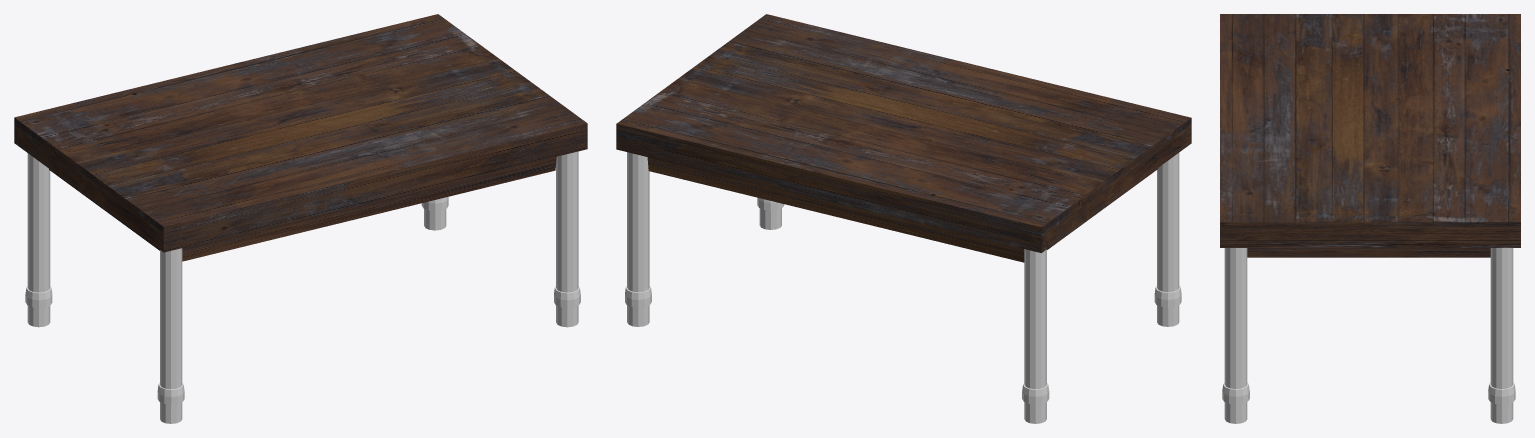
Rendered from Table.fbx.
3 renders of one model, left to right at view 1: azimuth 30°, elevation 25°; view 2: azimuth 150°, elevation 25°; view 3: azimuth 270°, elevation 25°, orthographic.
Visible parts, largest first — view 1: TableTop, TableLeg.003, TableLeg.002, TableLeg.001, TableLeg; view 2: TableTop, TableLeg.001, TableLeg, TableLeg.003, TableLeg.002; view 3: TableTop, TableLeg.002, TableLeg.
Part boxes in pixels (x1=…): TableTop: x1=14, y1=14, x2=587, y2=261; TableLeg.003: x1=157, y1=248, x2=184, y2=423; TableLeg.002: x1=554, y1=151, x2=580, y2=327; TableLeg.001: x1=25, y1=153, x2=52, y2=327; TableLeg: x1=421, y1=196, x2=448, y2=230; TableTop: x1=616, y1=14, x2=1191, y2=262; TableLeg.001: x1=1022, y1=249, x2=1049, y2=423; TableLeg: x1=625, y1=152, x2=651, y2=326; TableLeg.003: x1=1154, y1=153, x2=1181, y2=326; TableLeg.002: x1=757, y1=197, x2=784, y2=229; TableTop: x1=1220, y1=14, x2=1520, y2=257; TableLeg.002: x1=1222, y1=248, x2=1249, y2=423; TableLeg: x1=1488, y1=248, x2=1515, y2=423.
Size of the model in its own units: 200 by 91.01 by 122.
